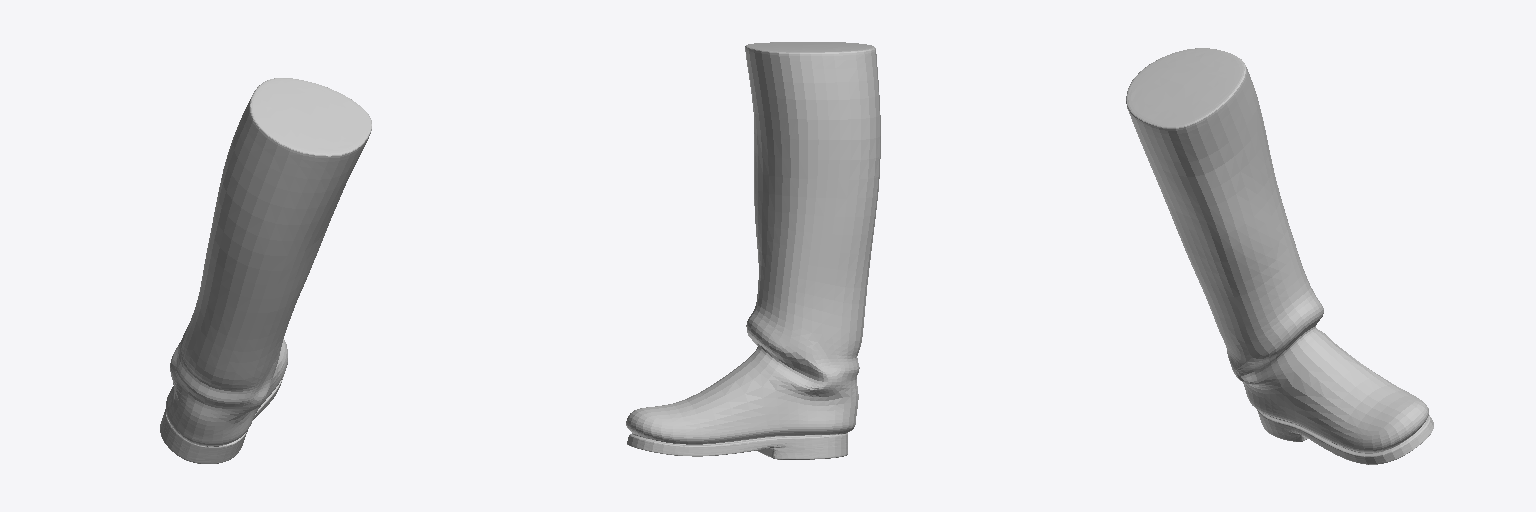
The model's file is cavalier_left_boot.obj.
The picture shows the model from 3 angles: view 1: azimuth 30°, elevation 25°; view 2: azimuth 150°, elevation 25°; view 3: azimuth 270°, elevation 25°; orthographic projection.
Parts seen in each view (by area): view 1: 15548_French_Horseman_v1; view 2: 15548_French_Horseman_v1; view 3: 15548_French_Horseman_v1.
Boxes of the visible parts, box(x1,y1,x2,y2) form: 15548_French_Horseman_v1: box(160, 78, 371, 463); 15548_French_Horseman_v1: box(626, 42, 880, 459); 15548_French_Horseman_v1: box(1126, 48, 1433, 464).
Size of the model in its own units: 0.9367 by 2.07 by 1.51.